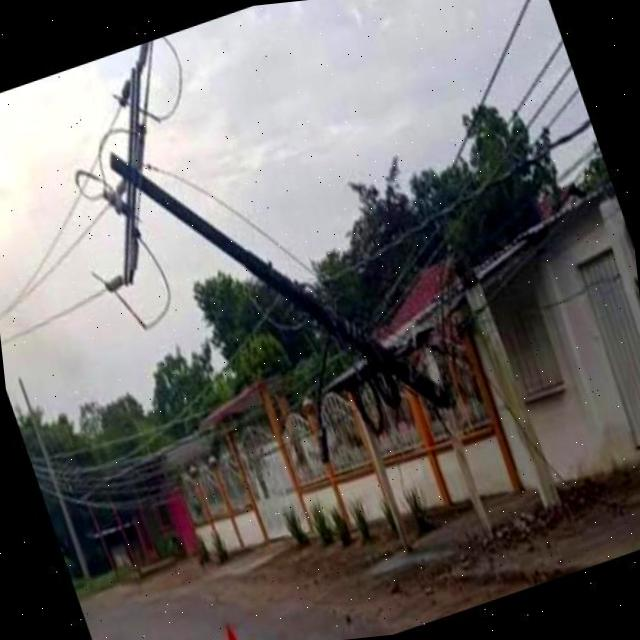Broken Pole: (95, 38, 564, 514)
